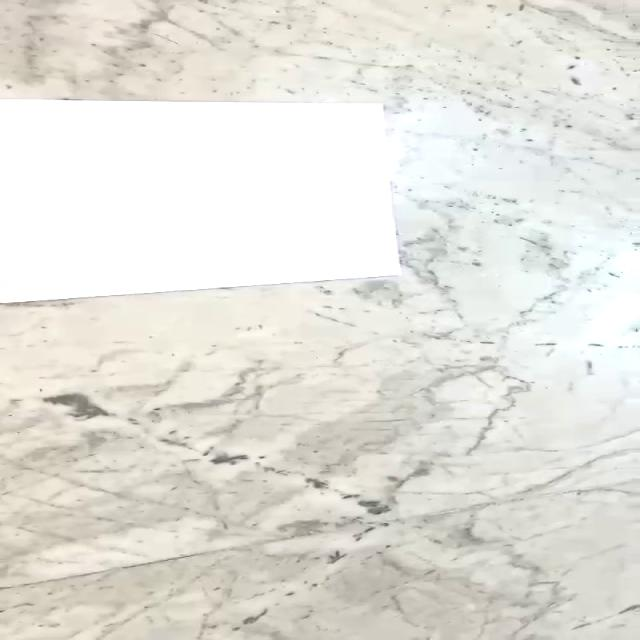road: (0, 100, 401, 304)
